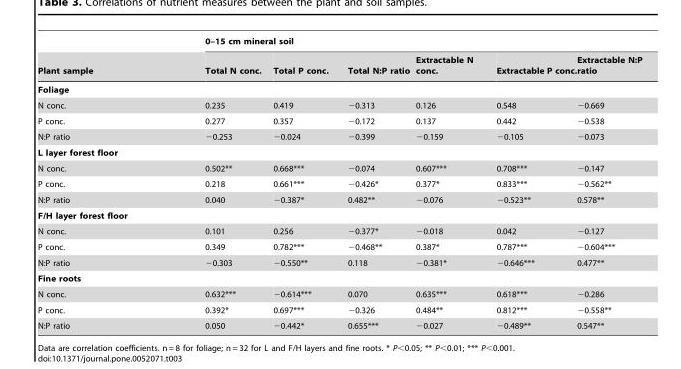table: (37, 36, 641, 329)
table column: (148, 36, 266, 329), (37, 36, 148, 329), (484, 36, 576, 329), (337, 36, 412, 329), (412, 36, 484, 329), (266, 36, 337, 329), (576, 36, 641, 329)
table column header: (37, 36, 641, 79)
table projected row header: (37, 79, 641, 97), (37, 144, 641, 160), (37, 207, 641, 223), (37, 270, 641, 286)
table row: (37, 50, 641, 79), (37, 79, 641, 97), (37, 112, 641, 128), (37, 128, 641, 144), (37, 144, 641, 160), (37, 175, 641, 191), (37, 191, 641, 207), (37, 207, 641, 223), (37, 238, 641, 254), (37, 254, 641, 270), (37, 270, 641, 286), (37, 301, 641, 317), (37, 97, 641, 112), (37, 160, 641, 175), (37, 223, 641, 238), (37, 286, 641, 301), (37, 36, 641, 50), (37, 317, 641, 329)
table spanning cell: (148, 36, 641, 50), (37, 36, 148, 79)
